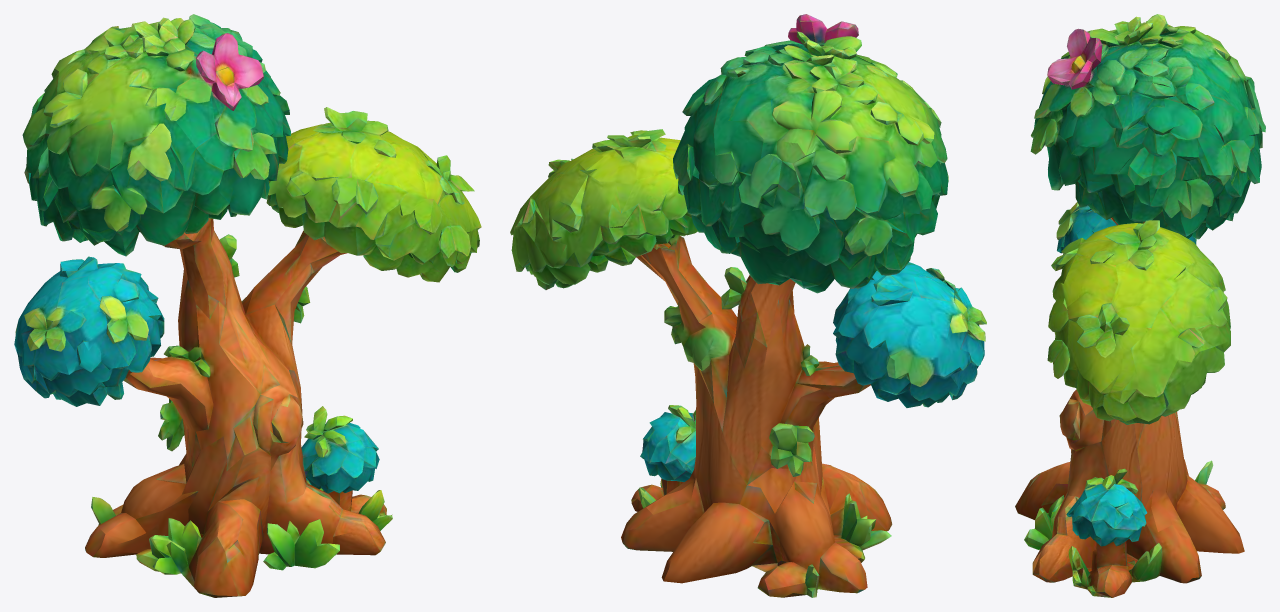
File: blossom-tree.glb
The picture shows the model from 3 angles, left to right: view 1: azimuth 30°, elevation 25°; view 2: azimuth 150°, elevation 25°; view 3: azimuth 270°, elevation 25°; orthographic projection. The views are drawn at different scales.
Parts seen in each view (by area): view 1: output_unwrapped; view 2: output_unwrapped; view 3: output_unwrapped.
Boxes of the visible parts, left/top/right/bottom form: output_unwrapped: left=14, top=14, right=481, bottom=597; output_unwrapped: left=510, top=14, right=986, bottom=597; output_unwrapped: left=1015, top=14, right=1265, bottom=597.
Size of the model in its own units: 1.71 by 1.9 by 0.8875.
1 material, 1 textured.
